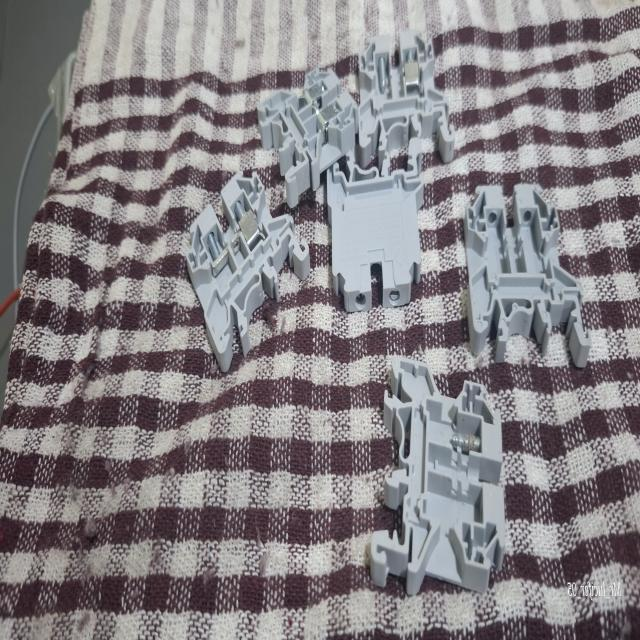Inverted: (330, 173, 422, 309)
Pass: (256, 61, 356, 201)
Reject: (370, 360, 508, 594), (188, 171, 312, 382), (465, 176, 588, 364), (357, 28, 457, 175)
